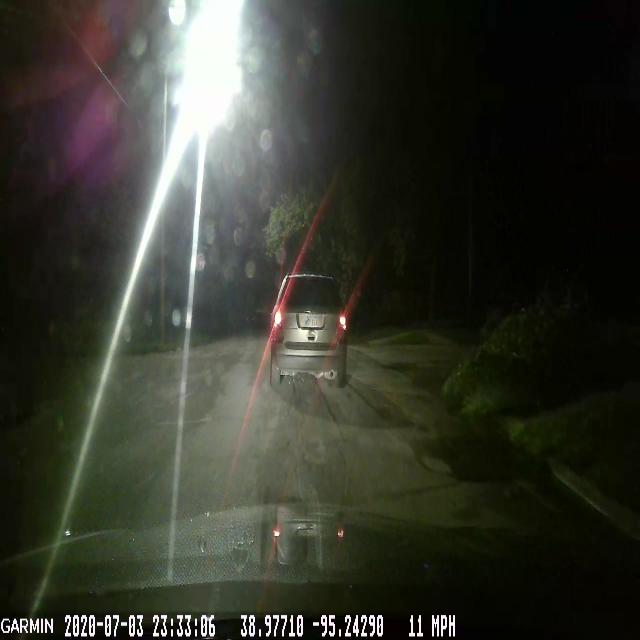Pothole: (412, 424, 556, 495)
